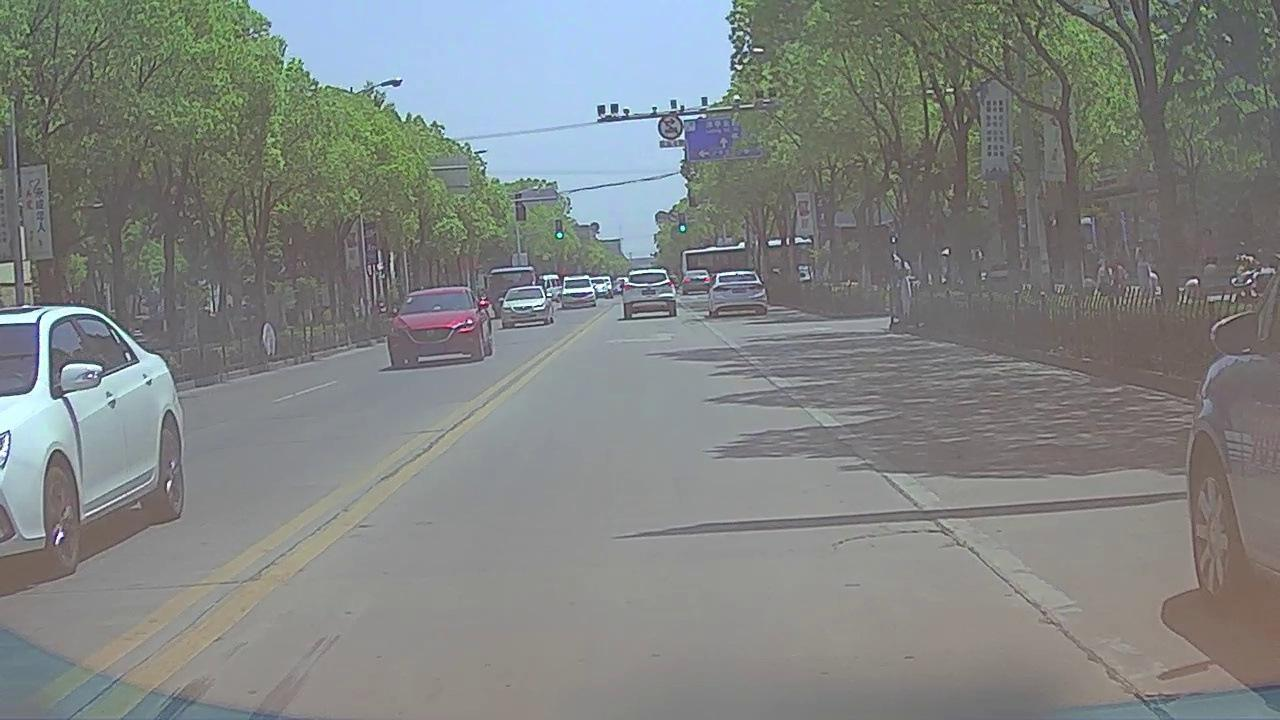traffic_light: (555, 220, 563, 239), (680, 212, 686, 232)
